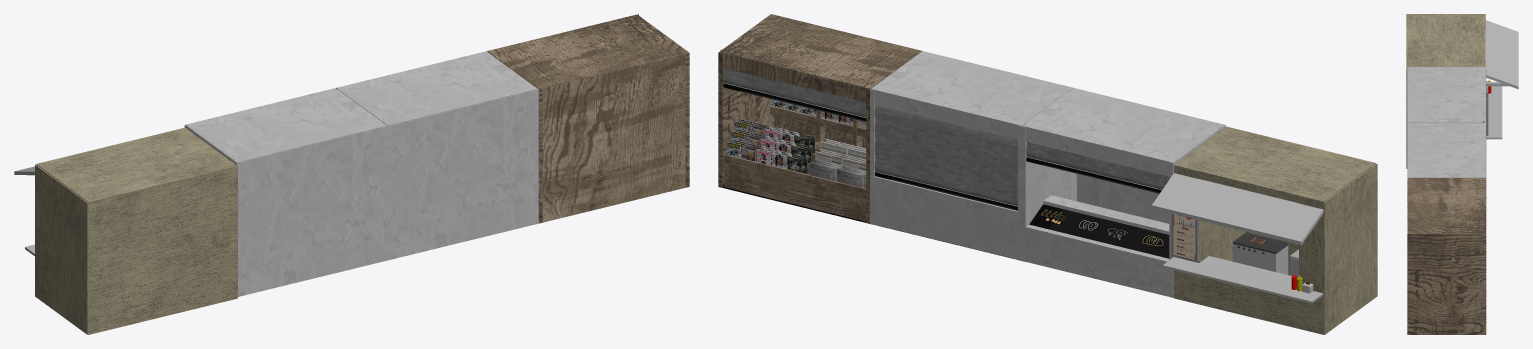
The model's file is shop8.fbx.
3 renders of one model, left to right at view 1: azimuth 30°, elevation 25°; view 2: azimuth 150°, elevation 25°; view 3: azimuth 270°, elevation 25°, orthographic. The views are drawn at different scales.
Visible parts, largest first — view 1: polySurface61; view 2: polySurface61; view 3: polySurface61.
Boxes of the visible parts, <box> form: polySurface61: <box>14,14,689,334</box>; polySurface61: <box>718,14,1377,334</box>; polySurface61: <box>1406,14,1518,334</box>.
Size of the model in its own units: 19.24 by 4.16 by 4.12.
24 materials, 15 textured.
